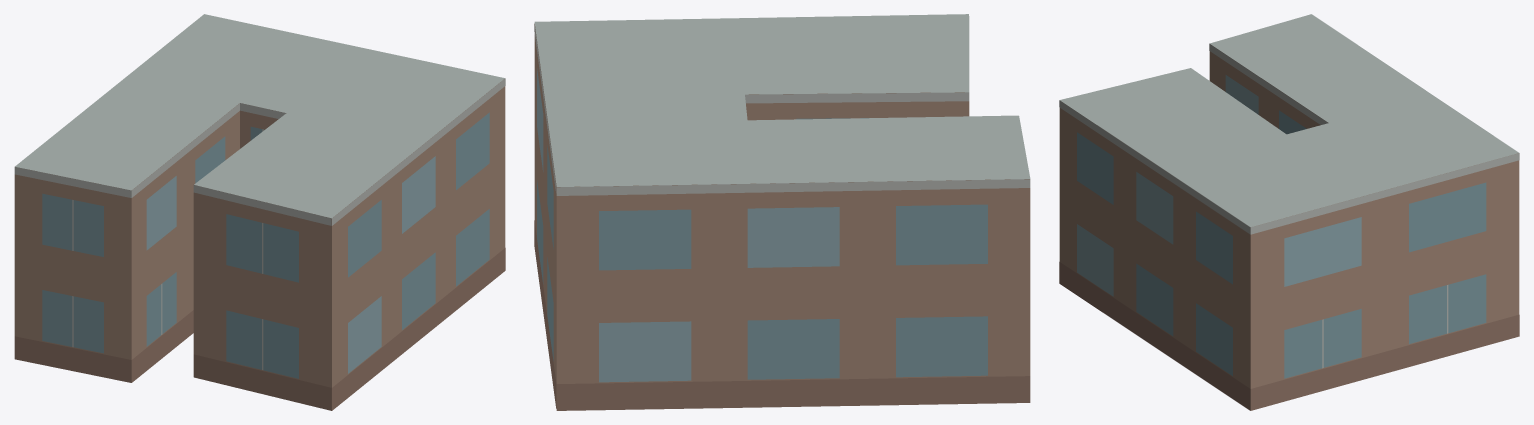
File: survey-upis-32956815.glb
3 views of the same model, side by side, from view 1: azimuth 30°, elevation 25°; view 2: azimuth 150°, elevation 25°; view 3: azimuth 270°, elevation 25° (orthographic). The views are drawn at different scales.
Parts seen in each view (by area): view 1: survey-upis-32956815.tmp; view 2: survey-upis-32956815.tmp; view 3: survey-upis-32956815.tmp.
Boxes of the visible parts, x1,y1,x2,y2 form: survey-upis-32956815.tmp: [14, 14, 505, 410]; survey-upis-32956815.tmp: [534, 14, 1030, 410]; survey-upis-32956815.tmp: [1059, 14, 1519, 410].
Bounding box in the file's own units: 15.22 × 6.1 × 13.86.
